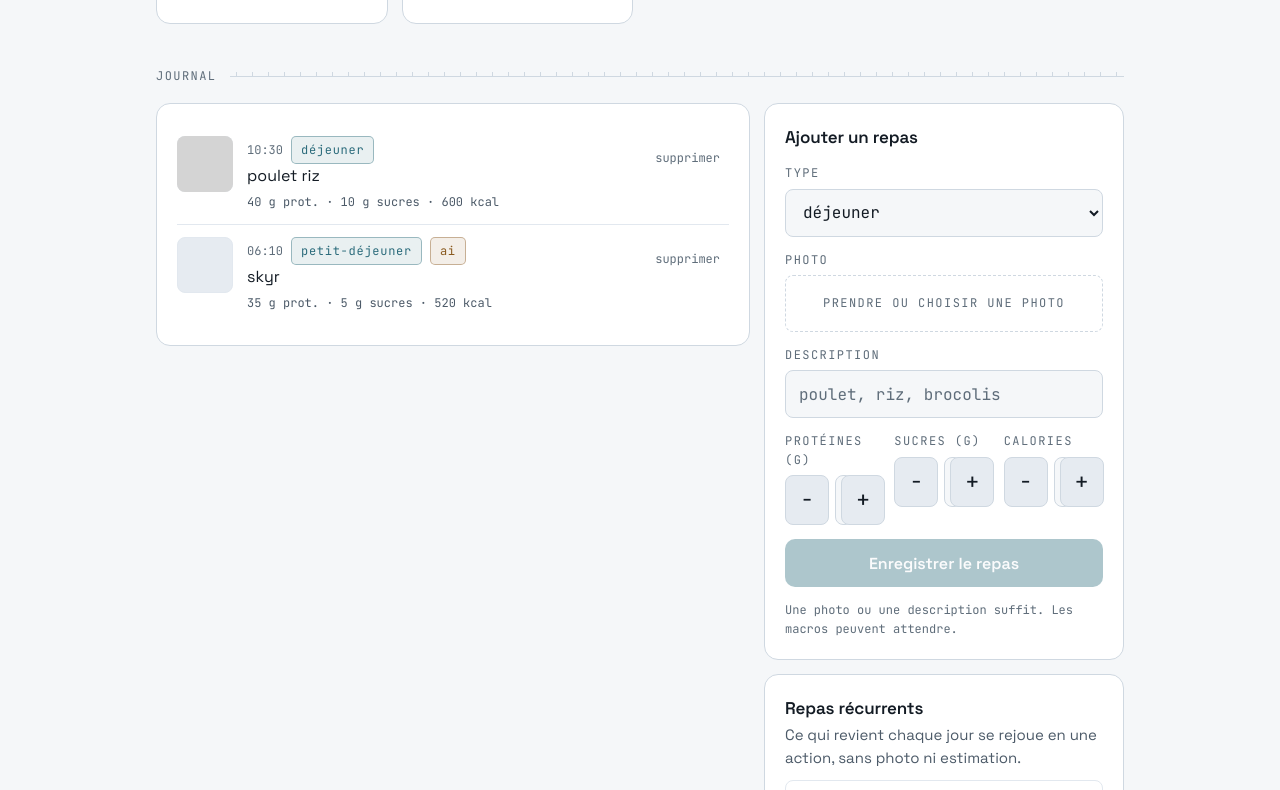
it: écran Nutrition › affiche le message du serveur sur un fichier refusé
(page scrolled)
In the field labelled "Description": (944, 394) 785,370 -> 1103,418, type "x"
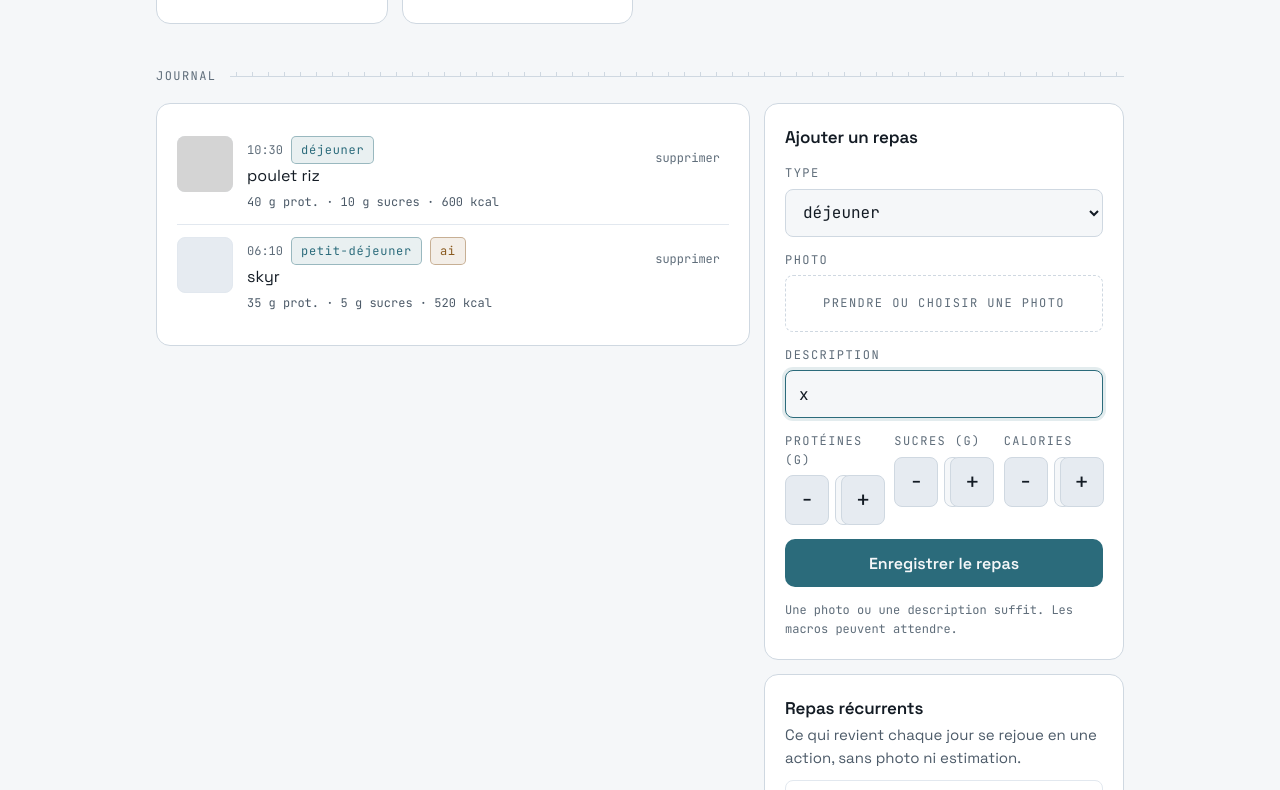
Click the button "Enregistrer le repas": (944, 564) 785,540 -> 1103,588
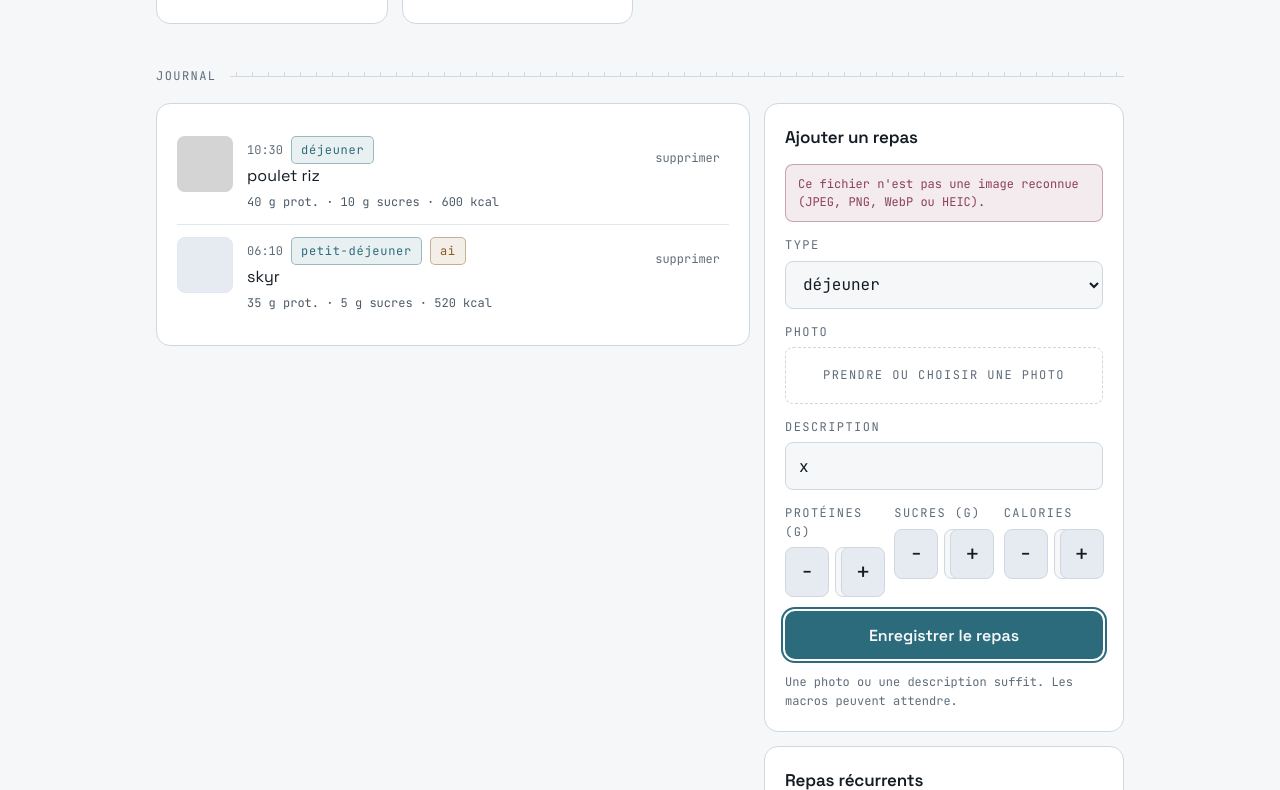
Check: the message shows "n'est pas une image reconnue", box 798,176 -> 1079,210
